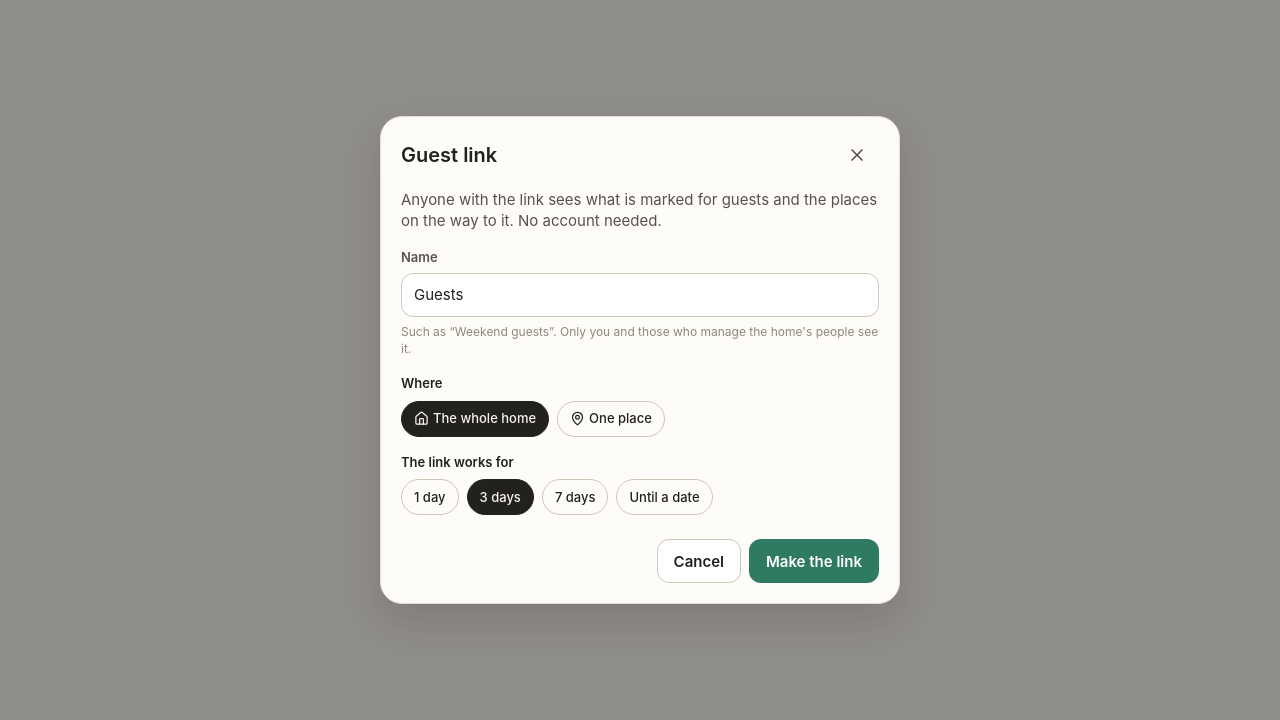
Test: GuestLinkDialog › asks for a place when the link covers one place
What coordinates should you click on to do the following:
click the radio button labelled "One place"
I would click on:
 (611, 419)
Its box is [557,401,665,437].
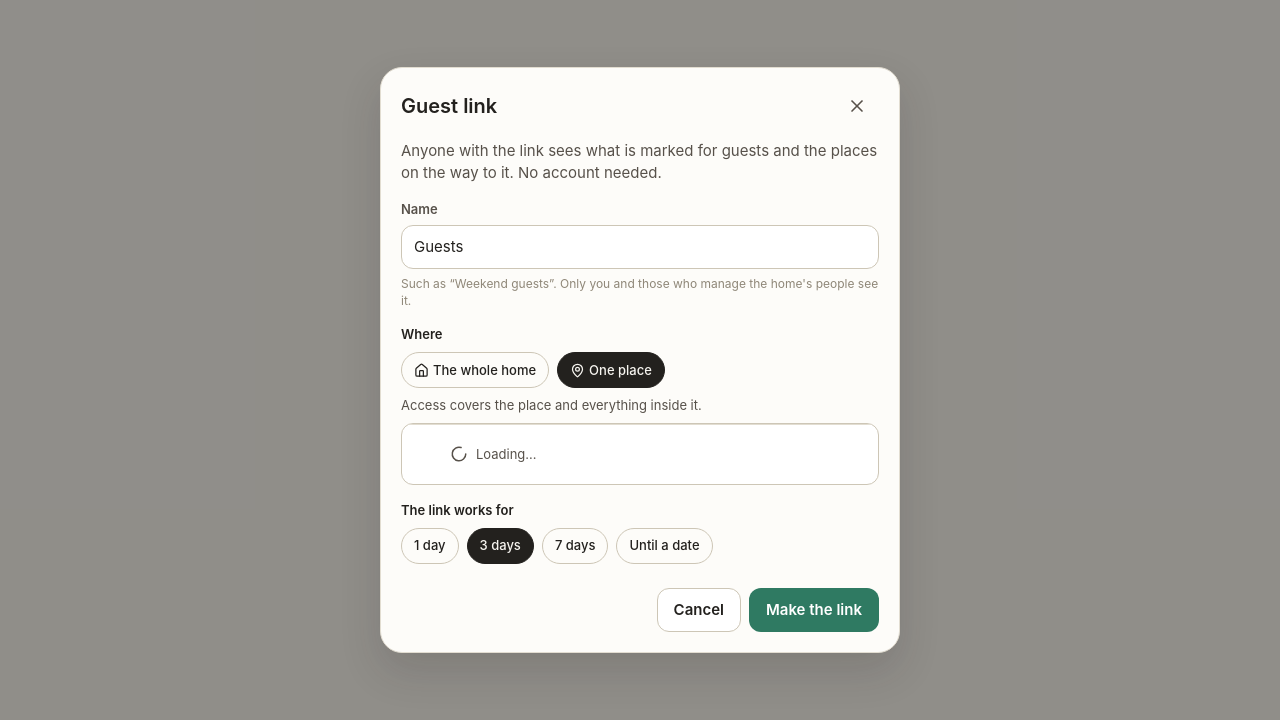
What coordinates should you click on to do the following:
click the button "Make the link"
I would click on:
 (814, 610)
Its box is [749,588,879,632].
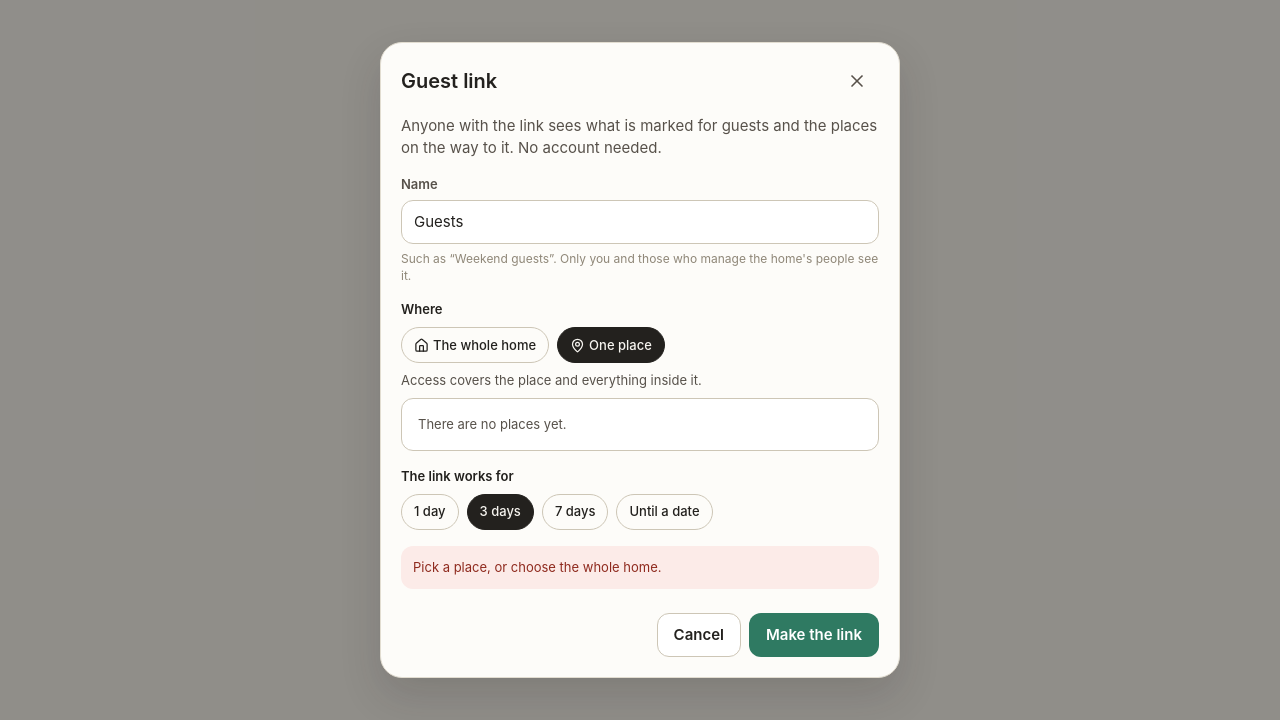
expect the message reads "Pick a place, or choose the whole home.": met, box [413,559,662,575]
